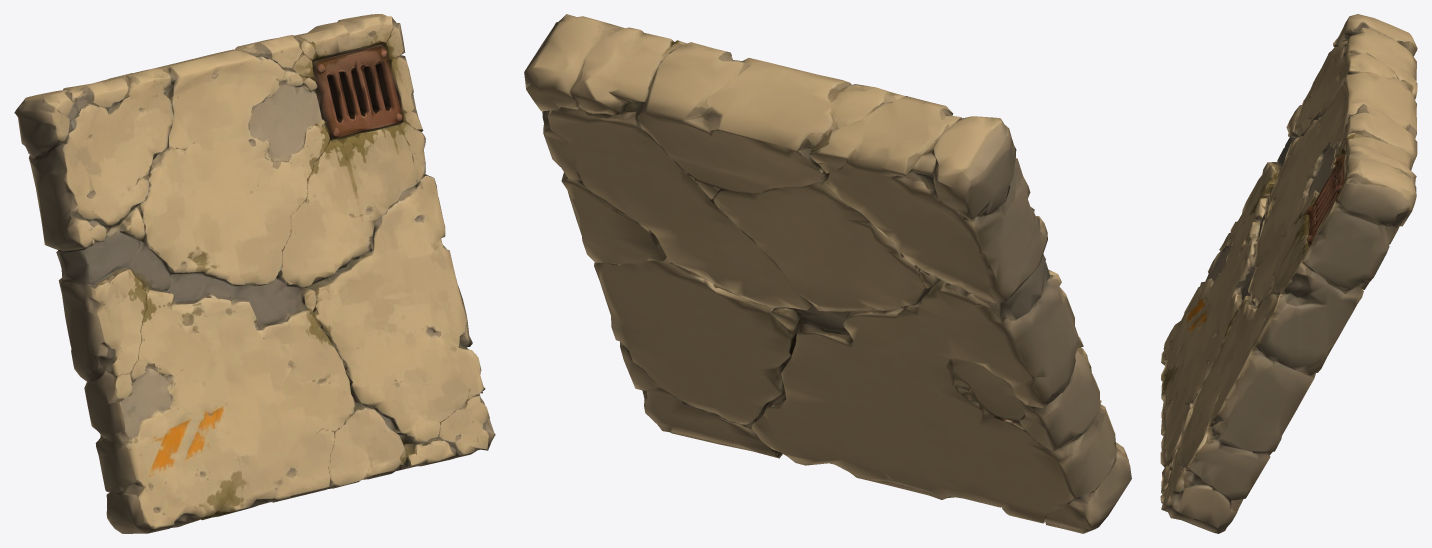
Rendered from tripo_convert_8d1f4972-cd10-4d5b-ba22-5b9448633f41.glb.
3 views of the same model, side by side, from view 1: azimuth 30°, elevation 25°; view 2: azimuth 150°, elevation 25°; view 3: azimuth 270°, elevation 25° (orthographic). The views are drawn at different scales.
Visible parts, largest first — view 1: tripo_node_8d1f4972-cd10-4d5b-ba22-5b9448633f41; view 2: tripo_node_8d1f4972-cd10-4d5b-ba22-5b9448633f41; view 3: tripo_node_8d1f4972-cd10-4d5b-ba22-5b9448633f41.
Part boxes in pixels (x1,y1,x2,y2): tripo_node_8d1f4972-cd10-4d5b-ba22-5b9448633f41: (14,14,495,533); tripo_node_8d1f4972-cd10-4d5b-ba22-5b9448633f41: (524,14,1131,533); tripo_node_8d1f4972-cd10-4d5b-ba22-5b9448633f41: (1160,14,1417,533).
Bounding box in the file's own units: 1 × 0.9966 × 0.6375.
Materials: 1 (1 with a texture image).
